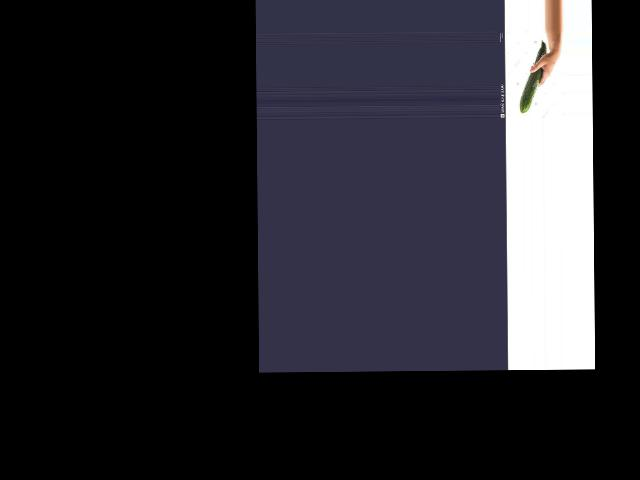cucumber: (518, 39, 547, 113)
